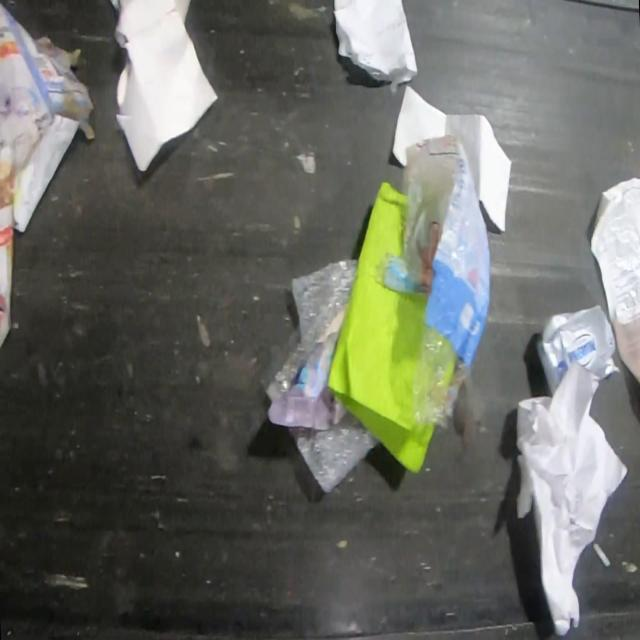cardboard: (536, 304, 622, 397)
soft_plastic: (364, 128, 494, 455), (265, 257, 379, 492)
